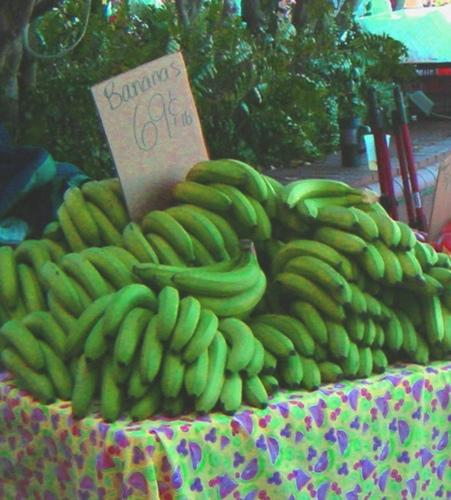banana: (132, 249, 244, 290), (170, 252, 260, 297), (162, 206, 230, 263), (189, 267, 267, 316), (270, 273, 346, 321), (0, 346, 56, 405), (102, 284, 158, 342), (65, 294, 115, 358), (248, 313, 316, 358), (184, 204, 239, 258), (194, 330, 228, 416), (142, 210, 197, 262), (81, 180, 130, 236), (270, 239, 342, 276), (114, 306, 156, 369), (78, 247, 138, 291), (204, 182, 257, 231), (282, 178, 363, 210), (62, 186, 104, 247), (1, 319, 46, 374), (38, 261, 84, 314), (280, 254, 344, 292), (61, 252, 110, 301), (295, 194, 370, 226), (24, 312, 66, 365), (218, 158, 268, 202), (217, 317, 254, 376), (38, 340, 74, 400), (85, 200, 128, 250), (12, 240, 52, 292), (181, 308, 218, 364), (158, 340, 191, 401), (71, 353, 100, 420), (122, 214, 160, 264), (172, 182, 232, 213), (169, 296, 201, 354), (100, 340, 122, 424), (184, 160, 248, 188), (246, 322, 296, 357), (141, 314, 165, 386), (58, 202, 91, 253), (314, 225, 367, 256), (372, 239, 403, 288), (144, 232, 186, 268), (381, 273, 444, 297), (131, 375, 163, 422), (295, 302, 329, 346), (97, 178, 130, 222), (47, 286, 77, 334), (16, 264, 46, 312), (244, 192, 273, 240), (396, 290, 426, 336), (367, 212, 402, 251), (356, 237, 386, 282), (418, 294, 445, 344), (184, 347, 209, 400), (157, 286, 180, 342), (128, 344, 149, 402), (184, 230, 216, 268), (314, 204, 360, 230), (84, 316, 109, 363), (218, 372, 244, 417), (394, 308, 418, 356), (0, 246, 18, 310), (394, 249, 426, 285), (238, 336, 264, 380), (296, 348, 322, 390), (382, 305, 404, 354), (348, 208, 379, 242), (277, 204, 312, 234), (325, 320, 350, 360), (66, 275, 94, 310), (104, 246, 140, 272), (242, 374, 268, 410), (339, 337, 360, 381), (346, 281, 370, 319), (277, 355, 303, 388), (39, 238, 67, 266), (3, 290, 27, 322), (413, 238, 434, 272), (343, 312, 365, 343), (162, 392, 186, 420), (110, 357, 134, 384), (410, 332, 430, 364), (395, 221, 416, 250), (425, 267, 451, 290), (263, 180, 278, 218), (342, 254, 361, 284), (440, 299, 450, 354), (318, 361, 344, 382), (369, 346, 388, 374), (43, 222, 67, 243), (373, 298, 392, 324), (362, 313, 376, 348), (363, 293, 381, 320), (358, 344, 372, 378), (266, 238, 286, 261), (257, 373, 279, 392), (262, 349, 278, 375), (372, 320, 386, 349), (422, 244, 439, 266), (356, 261, 367, 292), (0, 301, 12, 329), (433, 252, 451, 270), (314, 343, 328, 365), (102, 276, 118, 294), (428, 342, 444, 360), (382, 288, 396, 306)
